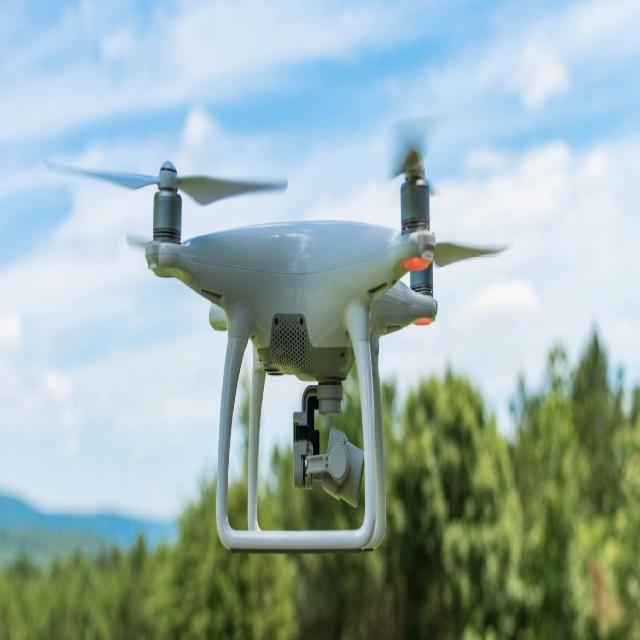drone: (98, 110, 534, 502)
